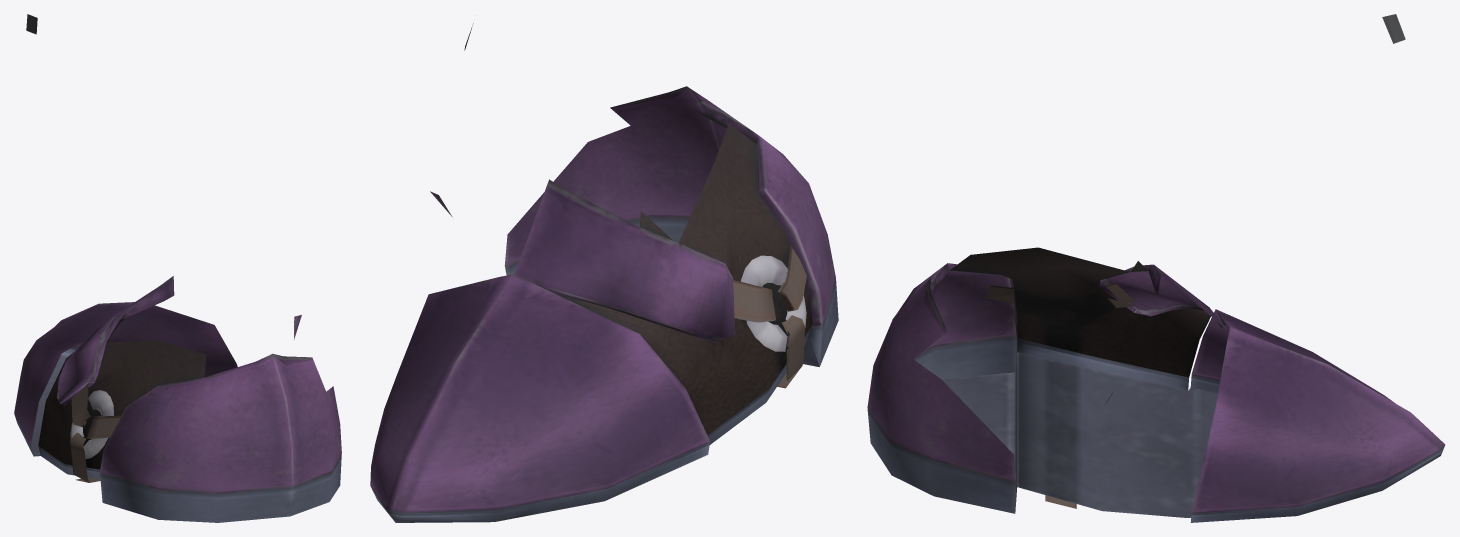
File: Metapieizquierdo.fbx
3 views of the same model, side by side, from view 1: azimuth 30°, elevation 25°; view 2: azimuth 150°, elevation 25°; view 3: azimuth 270°, elevation 25° (orthographic). The views are drawn at different scales.
Visible parts, largest first — view 1: body_VIS_O_OBJShape.006, body_VIS_O_OBJShape.007; view 2: body_VIS_O_OBJShape.006, body_VIS_O_OBJShape.007; view 3: body_VIS_O_OBJShape.006, body_VIS_O_OBJShape.007.
Boxes of the visible parts, x1,y1,x2,y2 form: body_VIS_O_OBJShape.006: [14, 14, 341, 522]; body_VIS_O_OBJShape.007: [38, 313, 206, 482]; body_VIS_O_OBJShape.006: [370, 23, 838, 522]; body_VIS_O_OBJShape.007: [556, 124, 812, 435]; body_VIS_O_OBJShape.006: [867, 14, 1445, 522]; body_VIS_O_OBJShape.007: [950, 247, 1218, 508].
Bounding box in the file's own units: 116 × 169 × 202.
